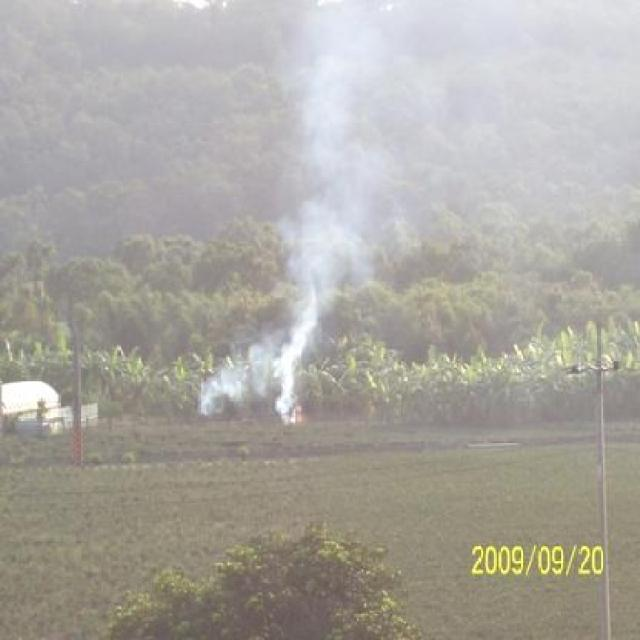Smoke: (190, 0, 418, 423)
